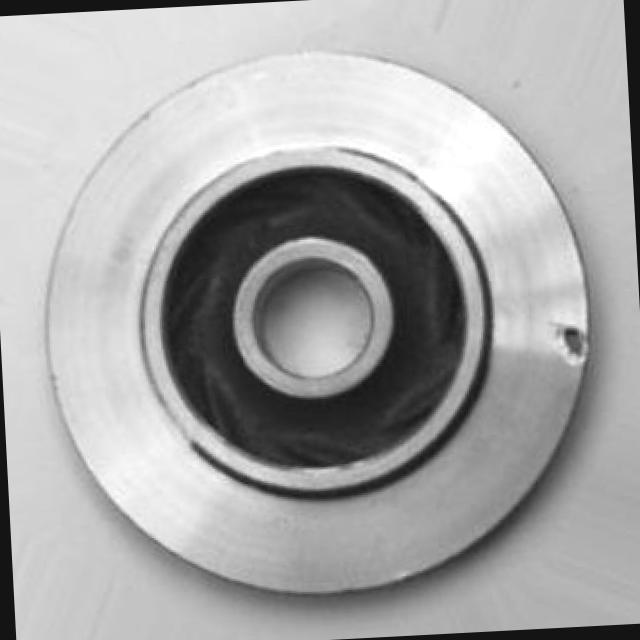Defect: (546, 317, 592, 364)
